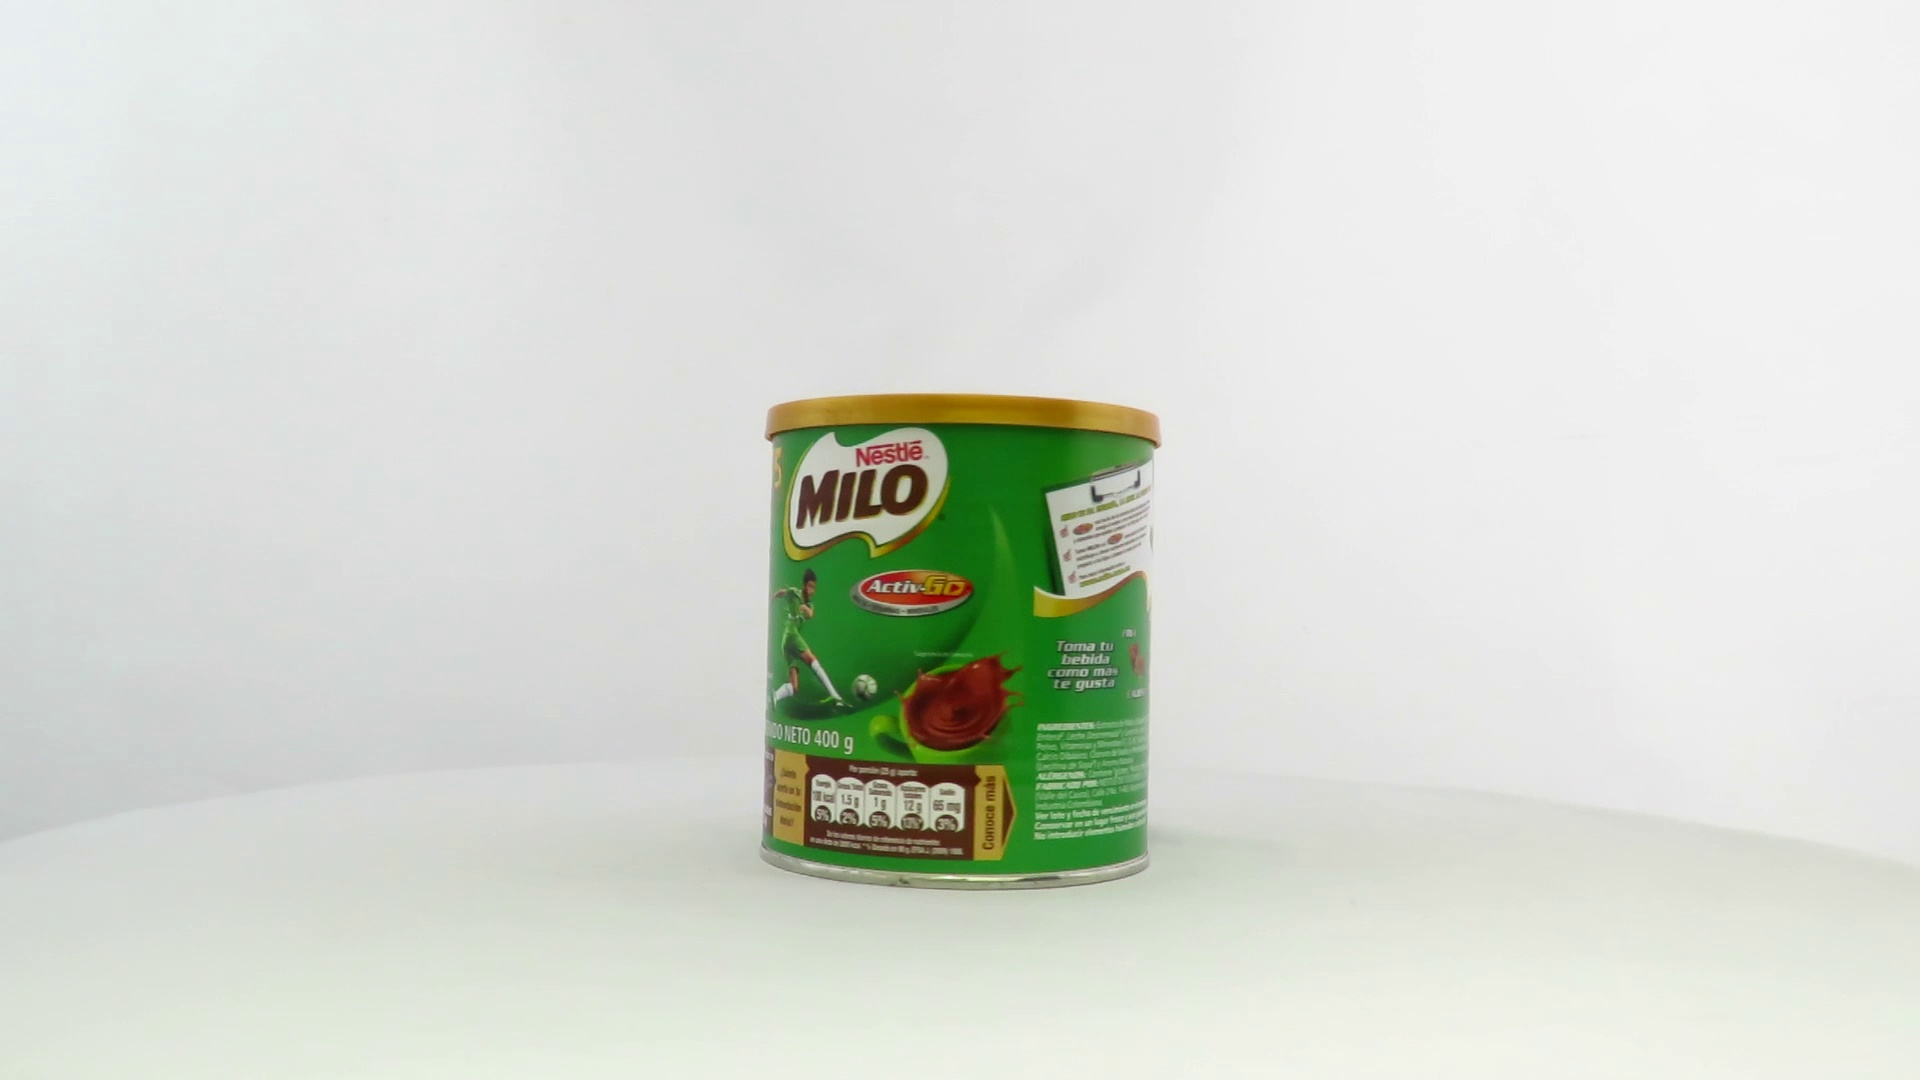COL0170203LAT40000: (754, 388, 1168, 897)
